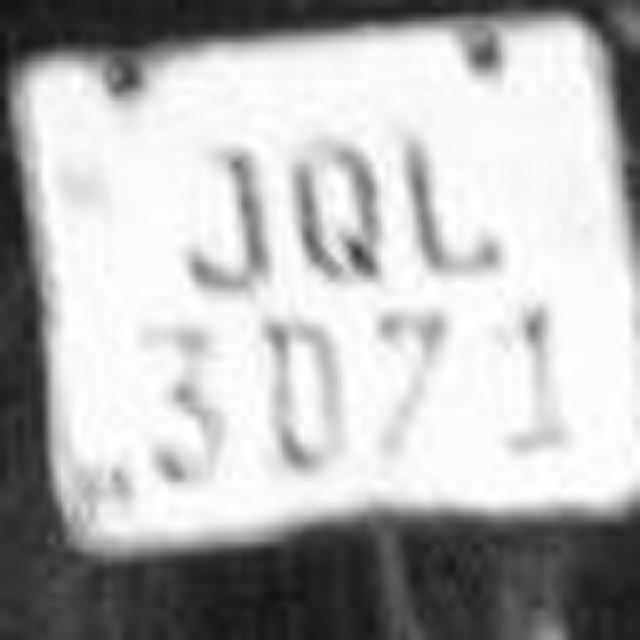1: (468, 280, 580, 480)
3: (100, 284, 255, 504)
D: (240, 280, 368, 495)
J: (152, 140, 288, 305), (400, 116, 515, 296)
Q: (285, 120, 400, 300)
